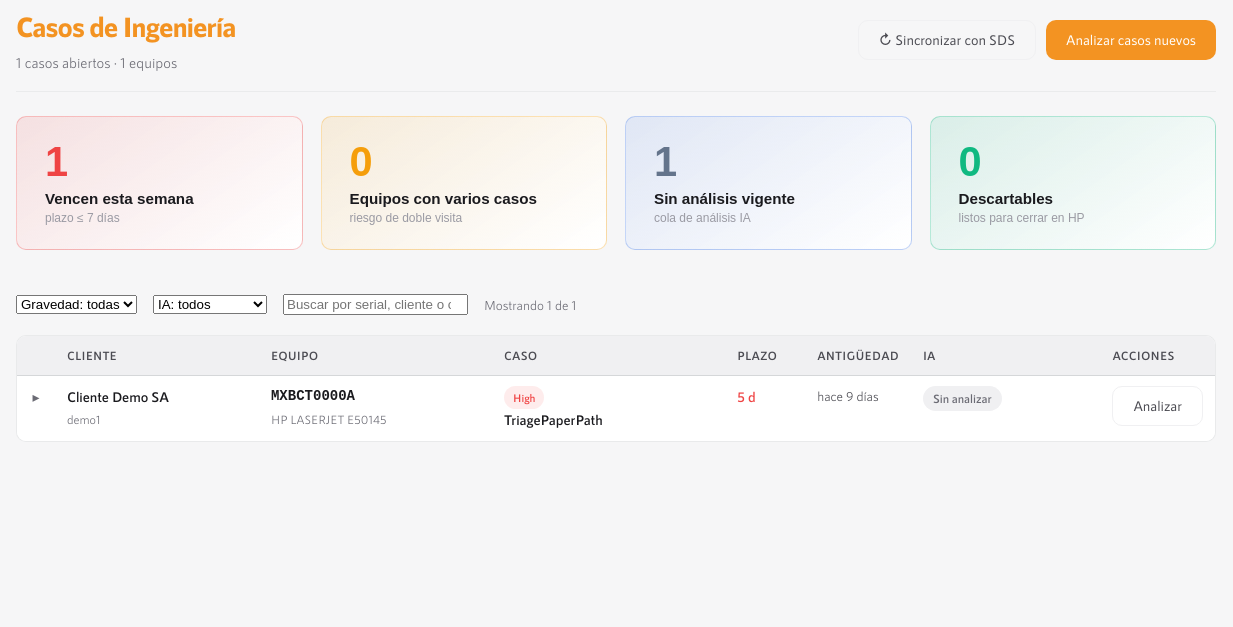
EngineeringCasesPage › expandir una fila carga el detalle una sola vez
Expected: the text "MXBCT0000A" is shown, [271,388,355,404]
Click the text "MXBCT0000A": (616, 408) [17,375,1215,441]
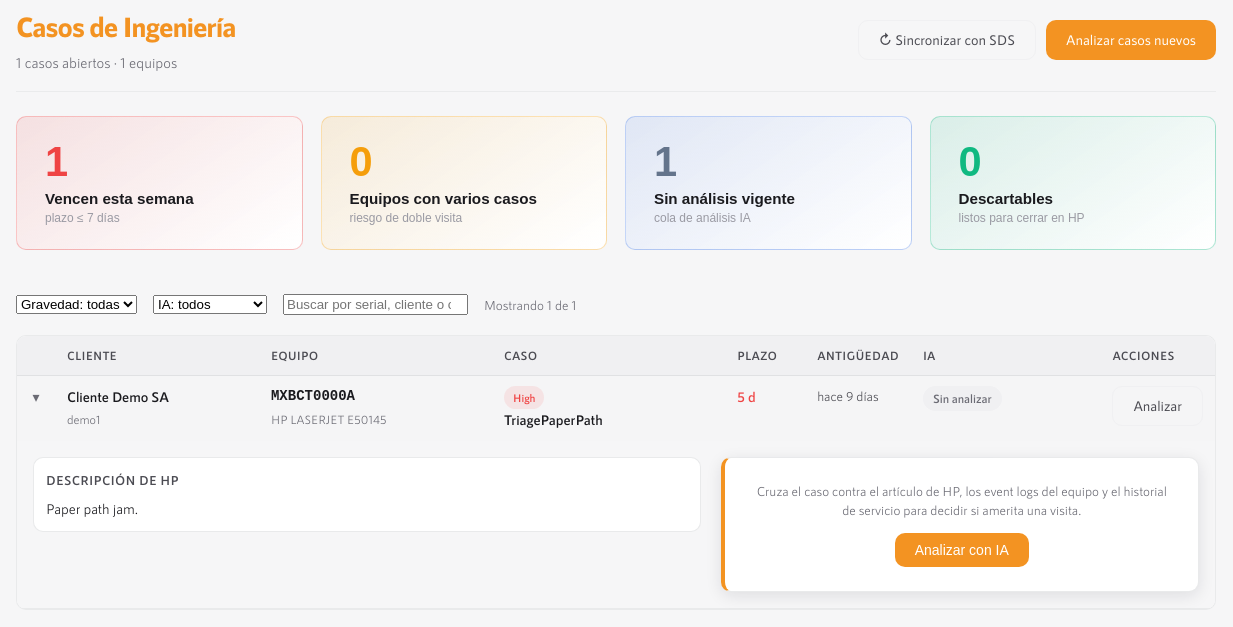
Expected: the text "Paper path jam." is shown, [46,500,138,517]
// colapsar y re-expandir no debe volver a pedir el detalle (cache)
Click the text "MXBCT0000A": (616, 408) [17,375,1215,441]
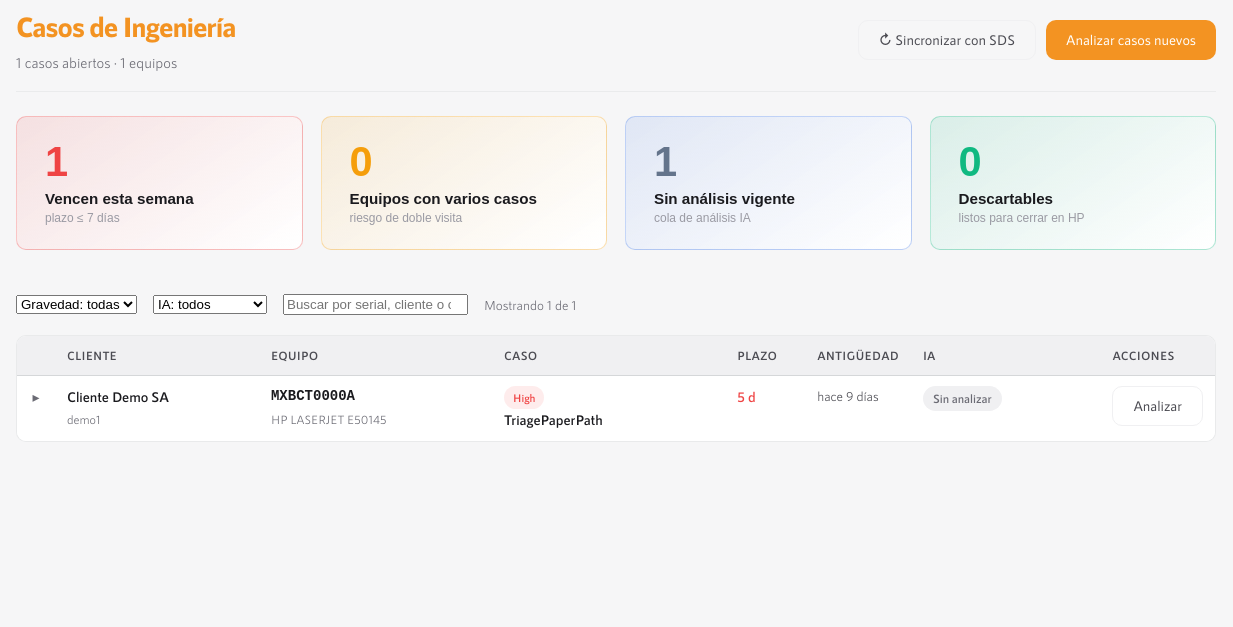
Click the text "MXBCT0000A": (616, 408) [17,375,1215,441]
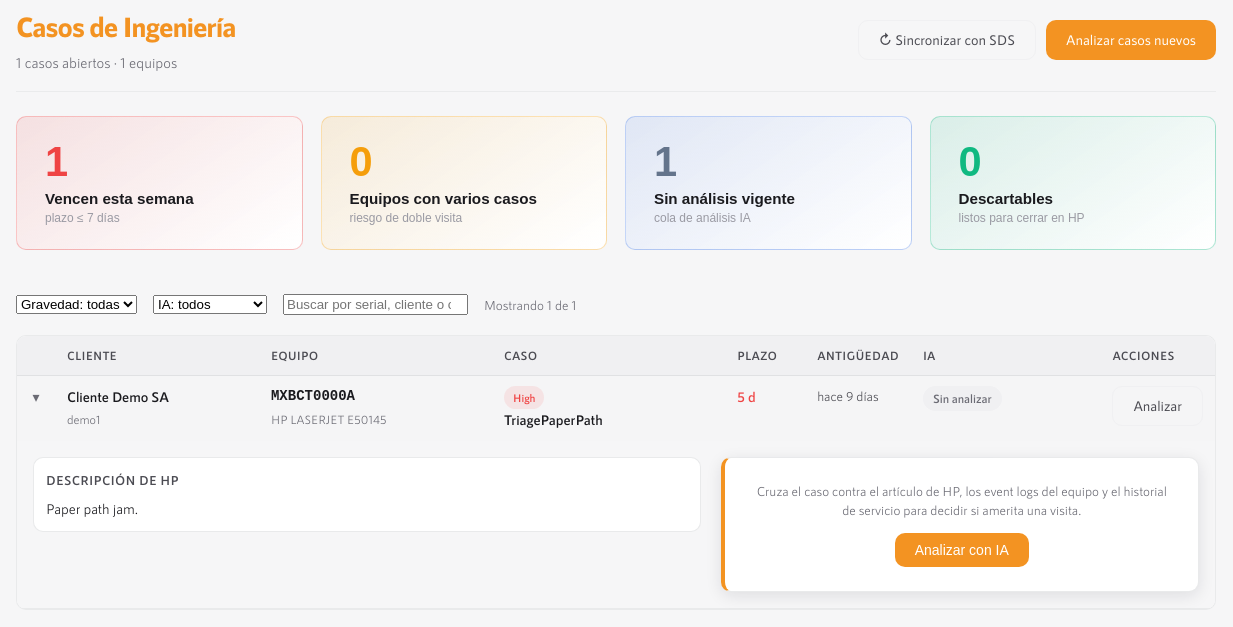
Expected: the text "Paper path jam." is shown, [46,500,138,517]
